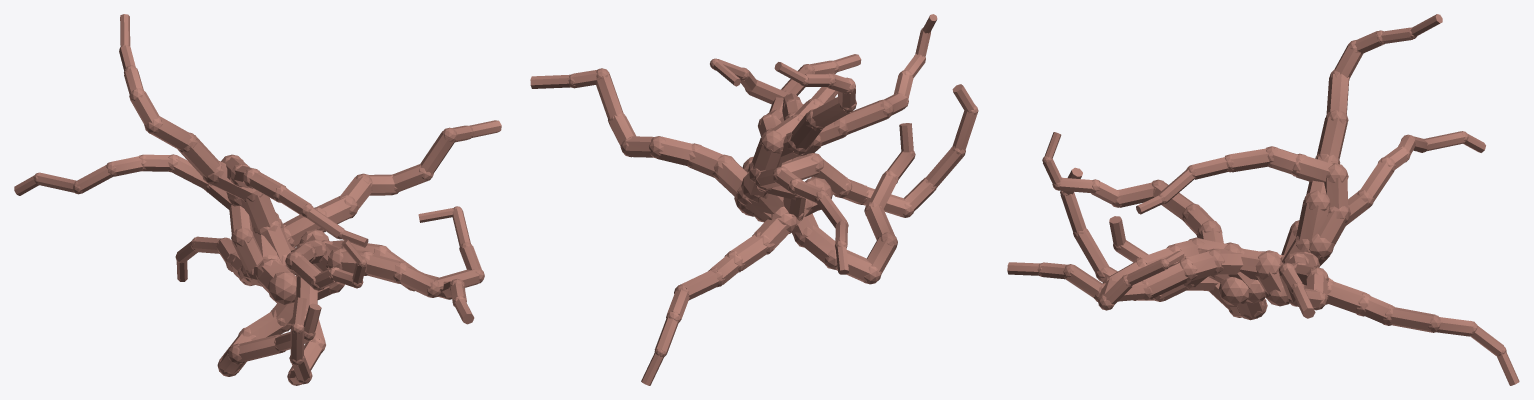
File: madder-root.glb
3 renders of one model, left to right at view 1: azimuth 30°, elevation 25°; view 2: azimuth 150°, elevation 25°; view 3: azimuth 270°, elevation 25°, orthographic.
Visible parts, largest first — view 1: geometry_0; view 2: geometry_0; view 3: geometry_0.
Boxes of the visible parts, x1,y1,x2,y2 form: geometry_0: [14, 14, 501, 385]; geometry_0: [530, 14, 978, 385]; geometry_0: [1007, 14, 1519, 385].
Size of the model in its own units: 0.1335 by 0.1012 by 0.145.
